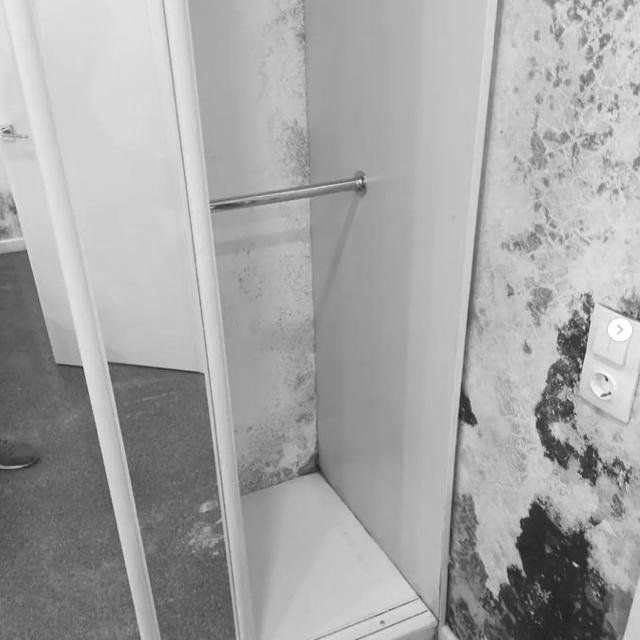stain marks: (460, 264, 574, 636), (498, 0, 637, 259), (574, 432, 638, 640), (615, 286, 637, 318)
